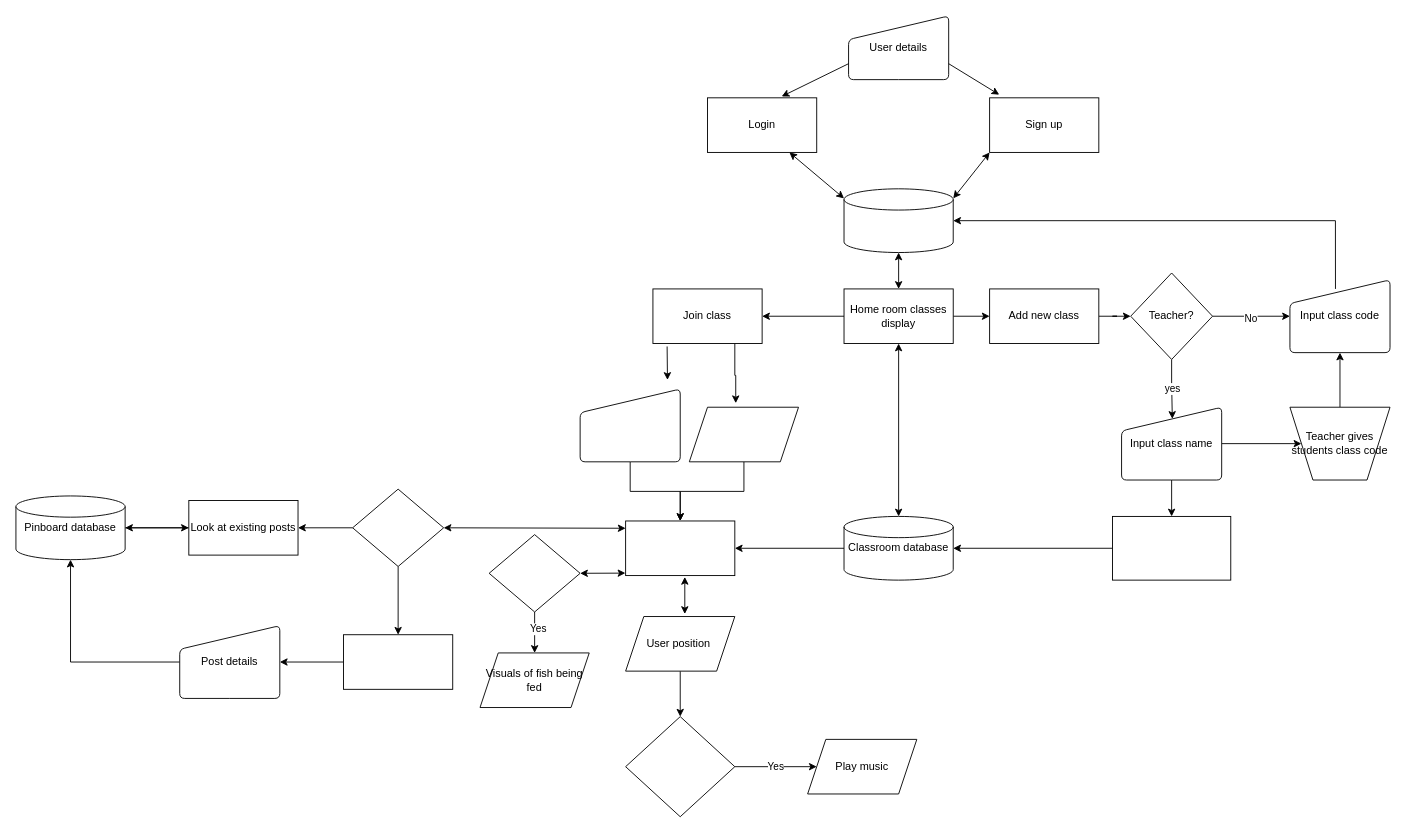
This 1406x833 diagram has some shape labels left out. Here are the shapes that lost their labels. From the top down, the box of each, then its label:
(843, 188, 953, 253): User database
(579, 388, 680, 462): In class user details
(688, 406, 799, 462): User Camera
(352, 488, 444, 566): Pinboard image clicked on?
(625, 520, 735, 576): Interactive class space
(1112, 516, 1231, 580): Create new class in db and generate unique class code as an identifier
(488, 534, 580, 612): Fish image clicked on?
(343, 634, 453, 689): Create new post
(625, 716, 735, 817): Within 300 px of stereo image?
